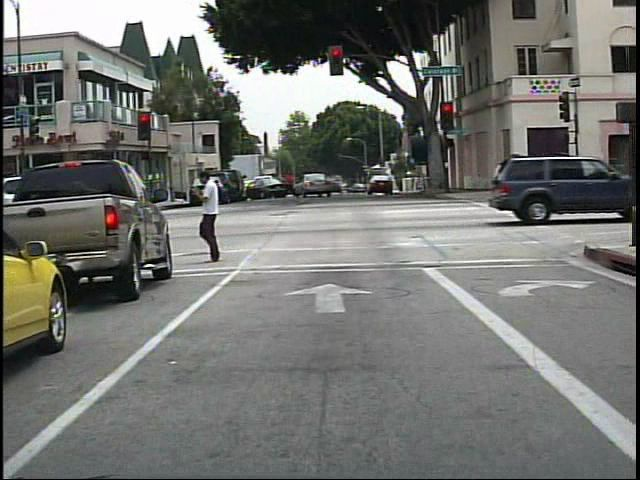person: (190, 168, 240, 266), (281, 163, 302, 207)
